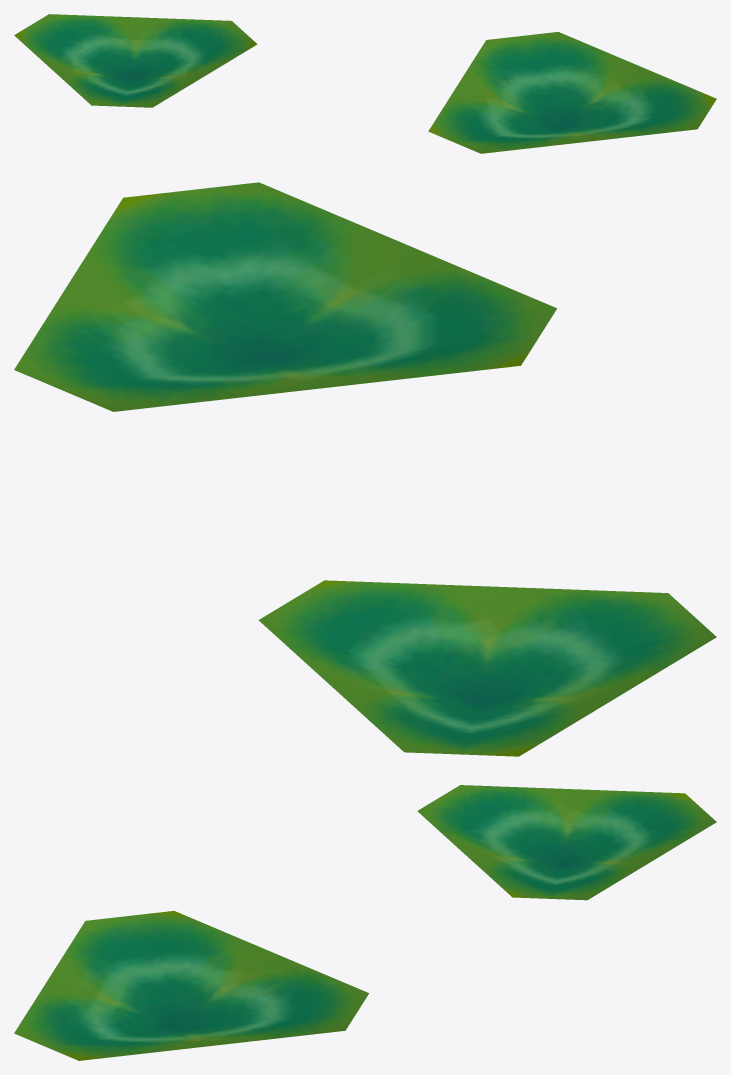
The model's file is PltWeedSpr1A.glb.
3 views of the same model, one above another, from view 1: azimuth 30°, elevation 25°; view 2: azimuth 150°, elevation 25°; view 3: azimuth 270°, elevation 25° (orthographic). The views are drawn at different scales.
Visible parts, largest first — view 1: pCylinder8__mClover; view 2: pCylinder8__mClover; view 3: pCylinder8__mClover.
Boxes of the visible parts, bbox=[...] form: pCylinder8__mClover: bbox=[14, 14, 716, 153]; pCylinder8__mClover: bbox=[14, 182, 716, 756]; pCylinder8__mClover: bbox=[14, 785, 716, 1060].
Size of the model in its own units: 6.92 by 0.4125 by 7.28.
1 material, 1 textured.
